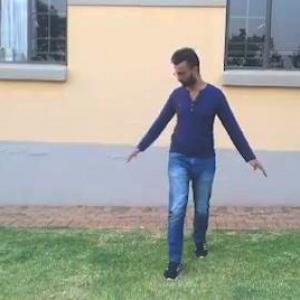land: (111, 36, 268, 271)
